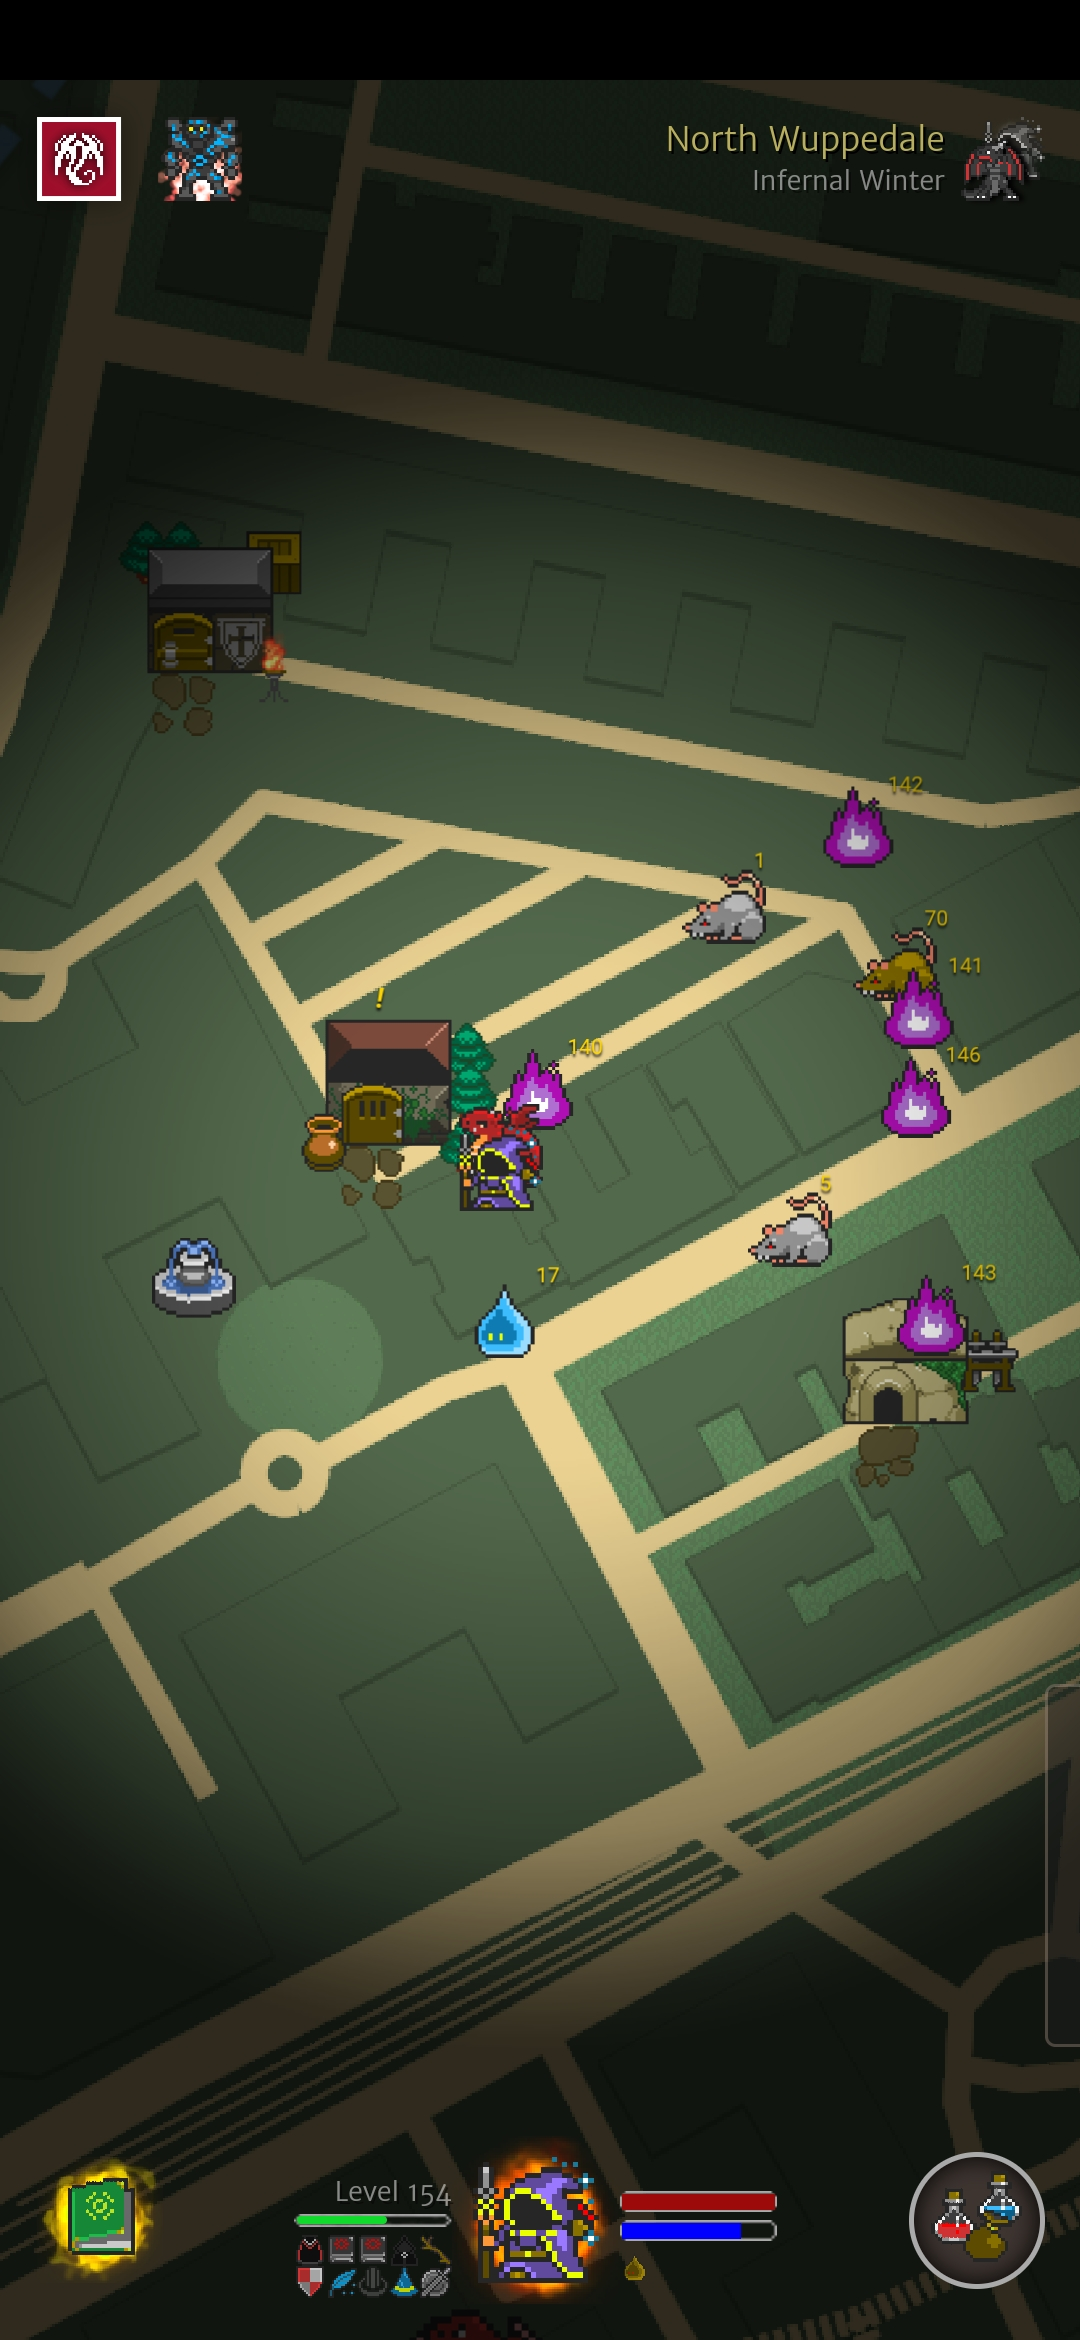monster: (746, 1182, 841, 1277), (877, 1054, 967, 1145), (682, 872, 767, 957), (462, 1282, 546, 1365), (882, 972, 961, 1051), (853, 922, 932, 1001), (509, 1054, 583, 1130), (898, 1274, 970, 1348), (826, 789, 898, 861)
